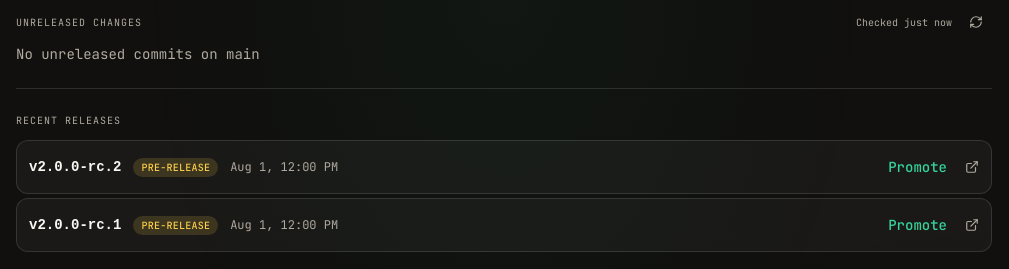
Scenario: ReleasesAdmin — recent releases › only confirms the release the operator clicked
Click the button "Promote" in the row of "v2.0.0-rc.2" at (918, 167), box 878,151 -> 957,183
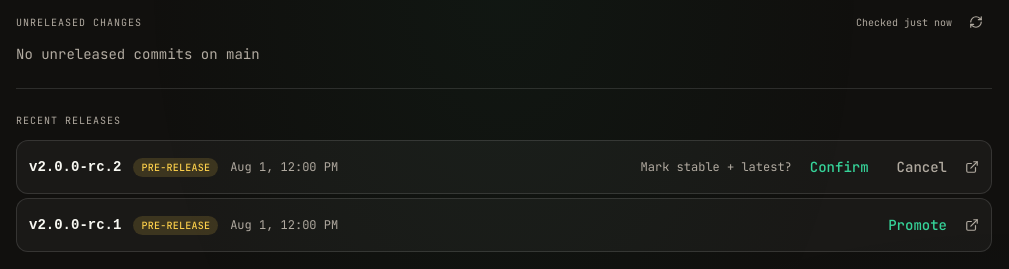
Expected: the button "Promote" is shown, 878,209 -> 957,241
Expected: the text "Mark stable + latest?" is shown, 641,159 -> 792,175
